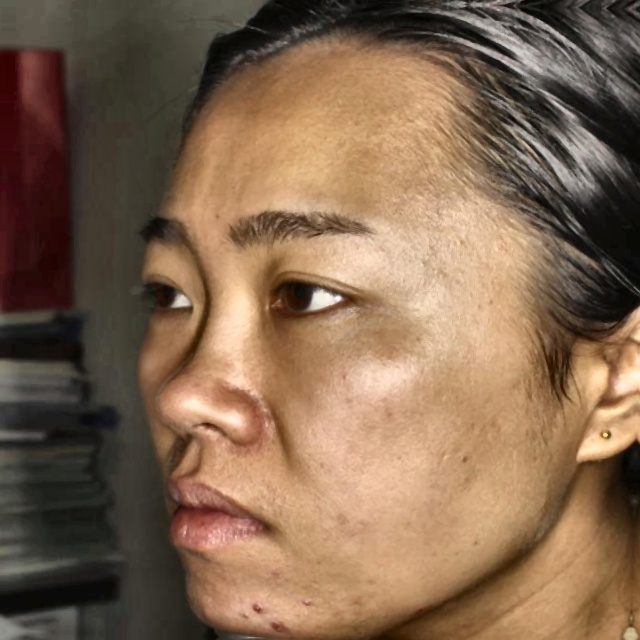comedone: (190, 600, 217, 629), (268, 611, 287, 636)
